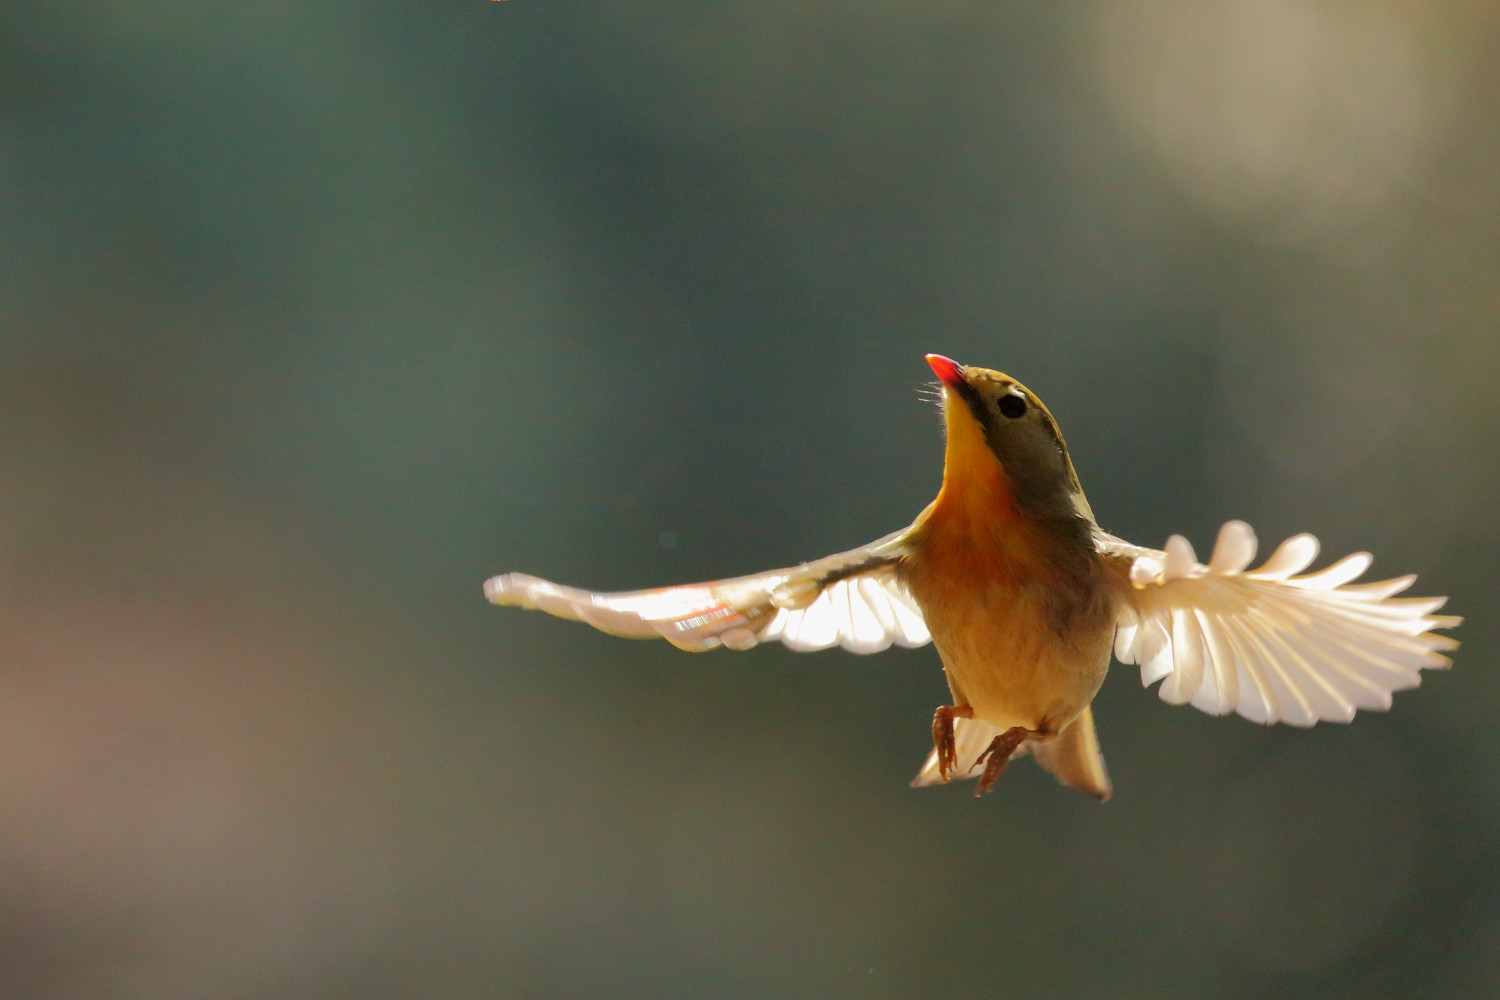bird: (414, 349, 1465, 802)
